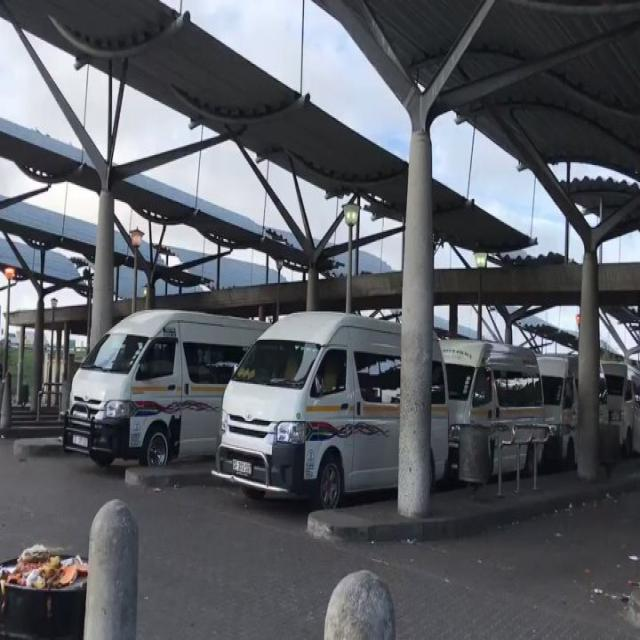MiniBus taxi: (218, 290, 338, 525), (60, 279, 154, 485)
